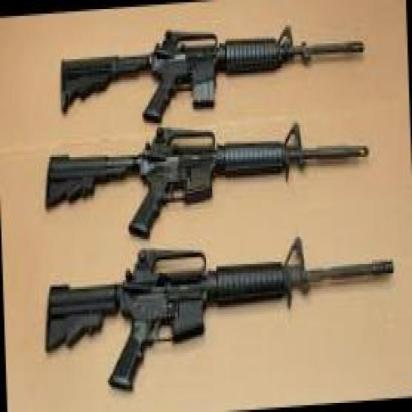Gun: (43, 230, 412, 389), (54, 13, 370, 127), (37, 129, 376, 235)
